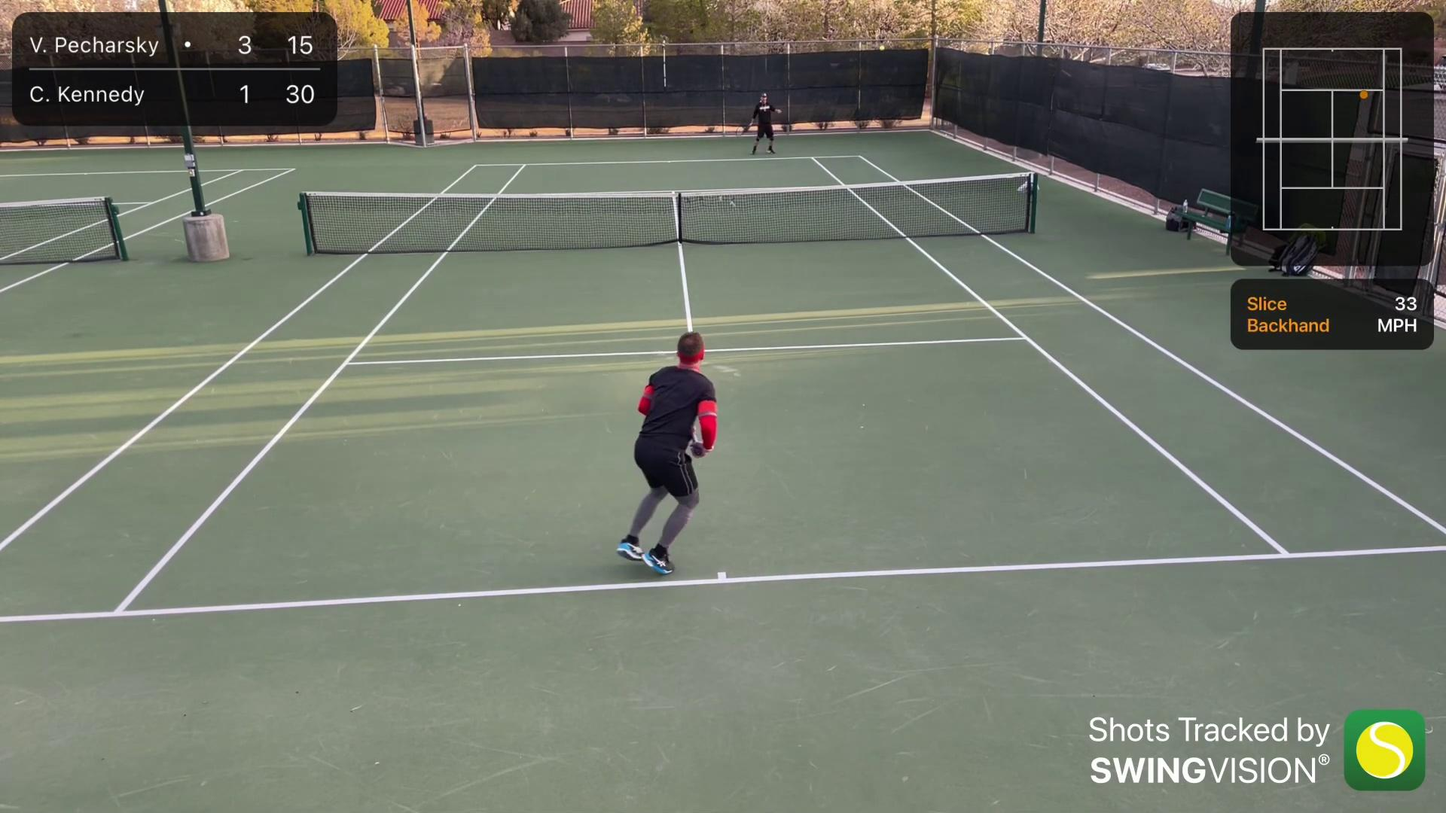ball: (880, 45, 887, 52)
